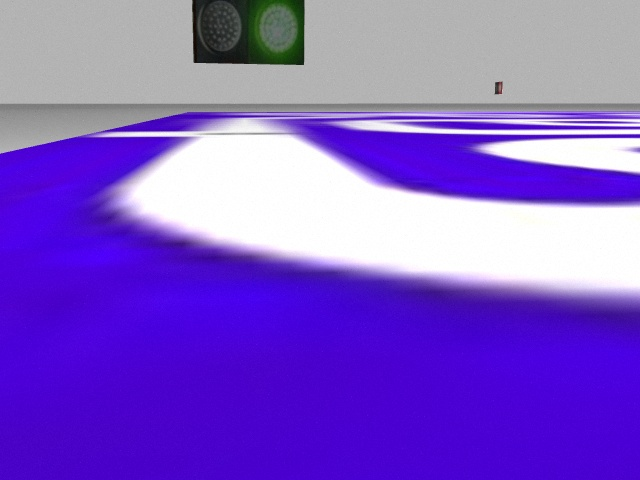green: (248, 1, 306, 64)
